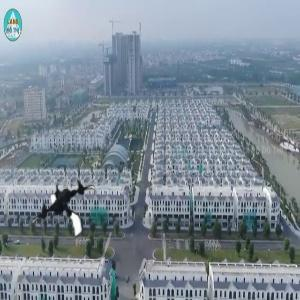drone: (30, 173, 102, 245)
